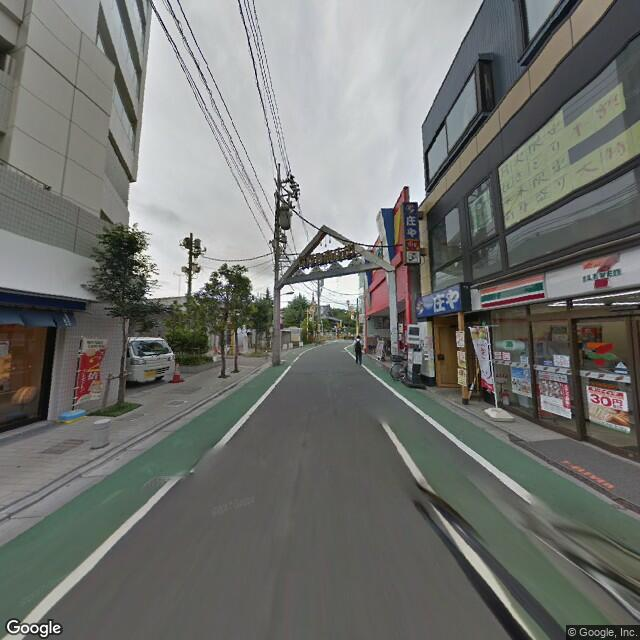7-eleven: (478, 241, 639, 314)
